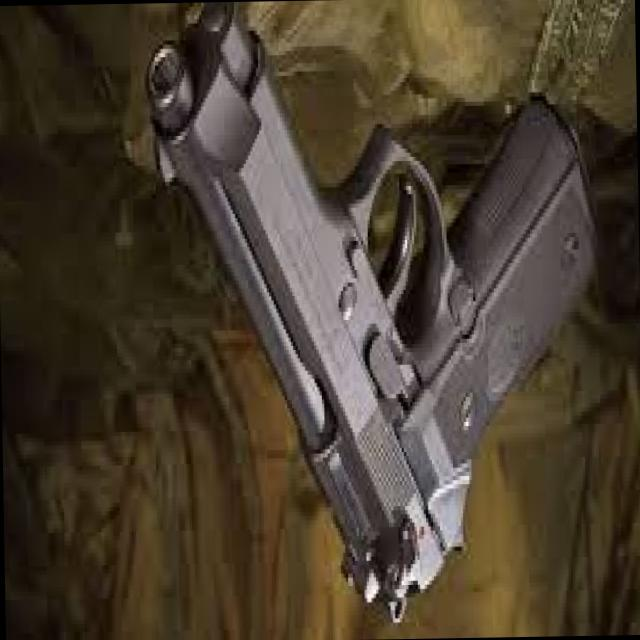Gun: (119, 0, 640, 622)
